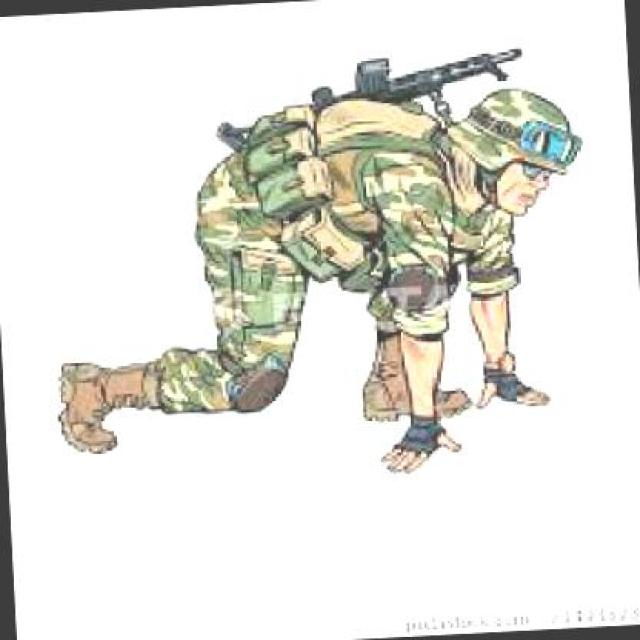MIL_Pax: (29, 68, 594, 506)
